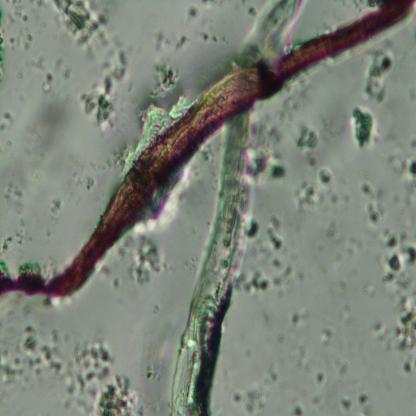Background material: (54, 1, 130, 130), (0, 83, 72, 185), (60, 336, 142, 415), (381, 228, 416, 378), (2, 319, 61, 388), (296, 122, 336, 213), (252, 115, 290, 184), (0, 171, 33, 250), (19, 50, 69, 97), (141, 313, 174, 384), (122, 233, 163, 290), (317, 223, 357, 280), (237, 259, 292, 300), (0, 2, 40, 49), (233, 372, 273, 414), (145, 61, 185, 101), (348, 102, 380, 148), (358, 179, 385, 229), (366, 50, 390, 106), (69, 154, 98, 198), (141, 33, 188, 54), (337, 386, 371, 414), (265, 211, 290, 249), (394, 150, 416, 190), (191, 32, 225, 56), (334, 293, 354, 329), (47, 198, 65, 236), (184, 0, 206, 25), (292, 310, 314, 328), (318, 325, 336, 345), (288, 401, 309, 416), (272, 328, 287, 346), (314, 372, 330, 388)
Cellulose filter fibre: (170, 0, 305, 414)
Cotton: (0, 0, 416, 301)
